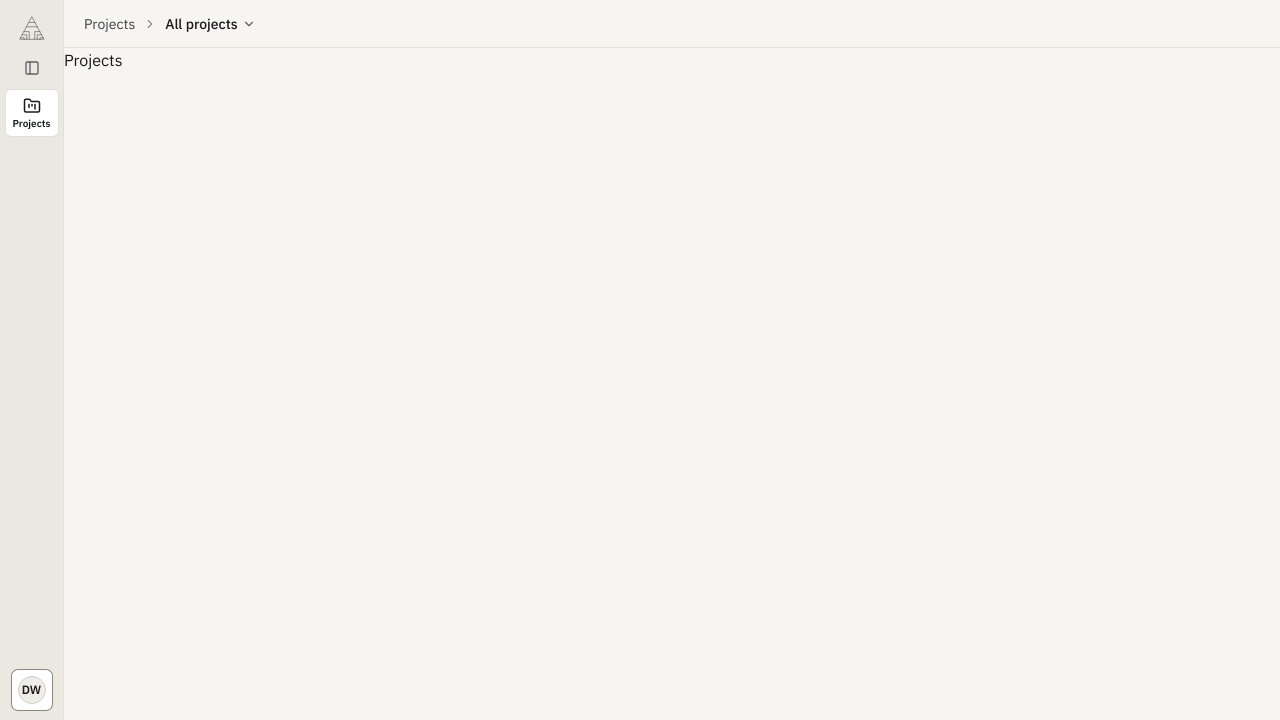
Scenario: a Projects surface with its own default › remembers a choice made on the Board under the Board key only
Step 1. Click the button named "Show workspace views" → click(32, 68), box [14,50,50,86]
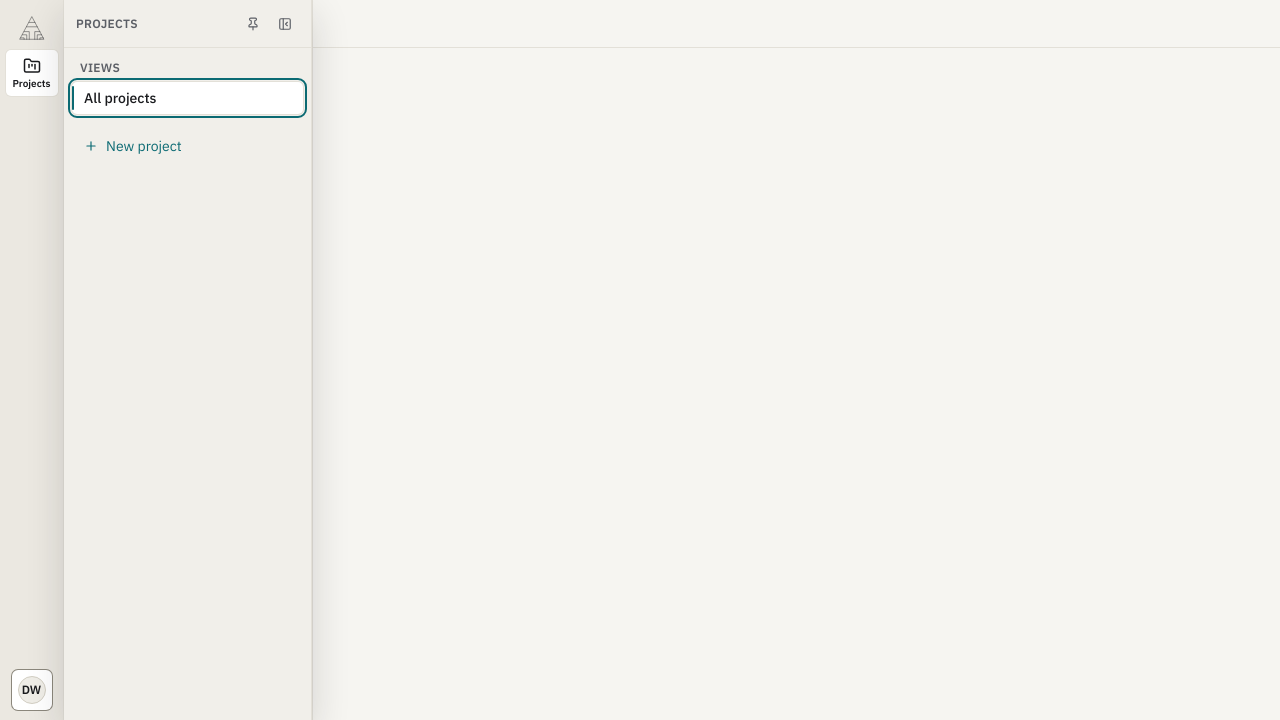
Expected: the navigation bar named "Projects views" is shown, [64,48,311,174]
